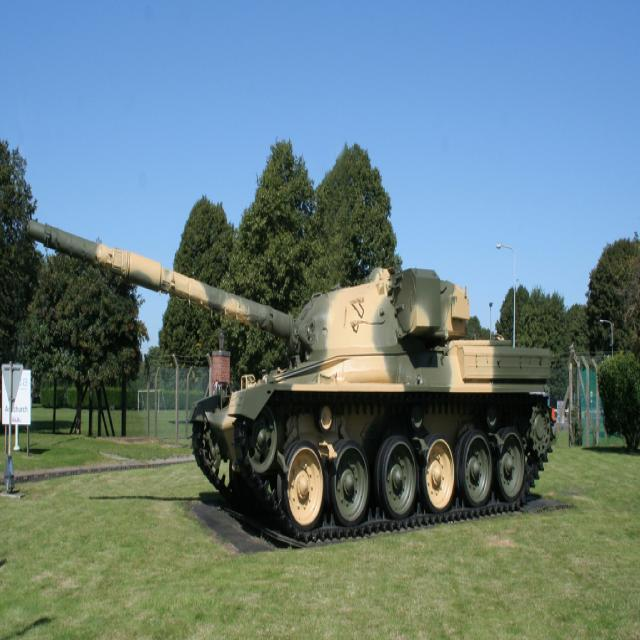tank: (28, 213, 558, 540), (26, 218, 555, 545)
